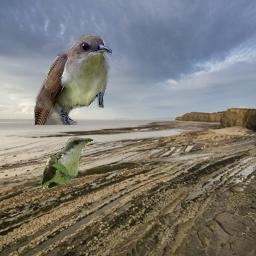Cuckoo: (34, 35, 112, 125), (40, 137, 93, 190)
